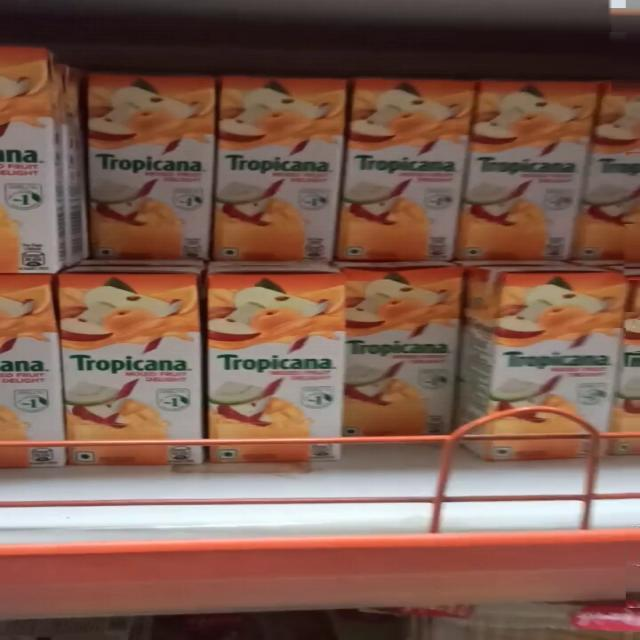Tropicana: (45, 257, 203, 464), (212, 258, 342, 465), (344, 254, 471, 464), (207, 65, 349, 252), (498, 272, 634, 460), (349, 66, 478, 260), (79, 62, 211, 250), (478, 72, 608, 254)
